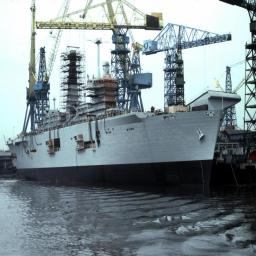Portanaves: (1, 35, 229, 203)
